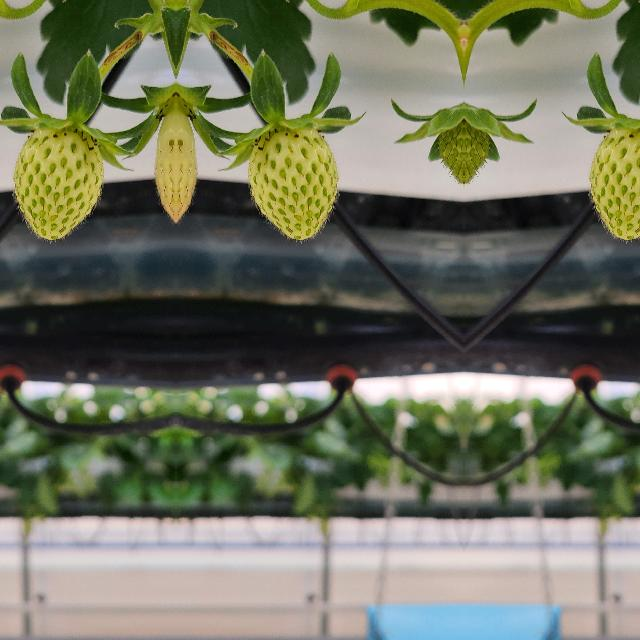Health_25: (247, 128, 337, 238), (13, 128, 103, 238), (589, 127, 640, 238)
